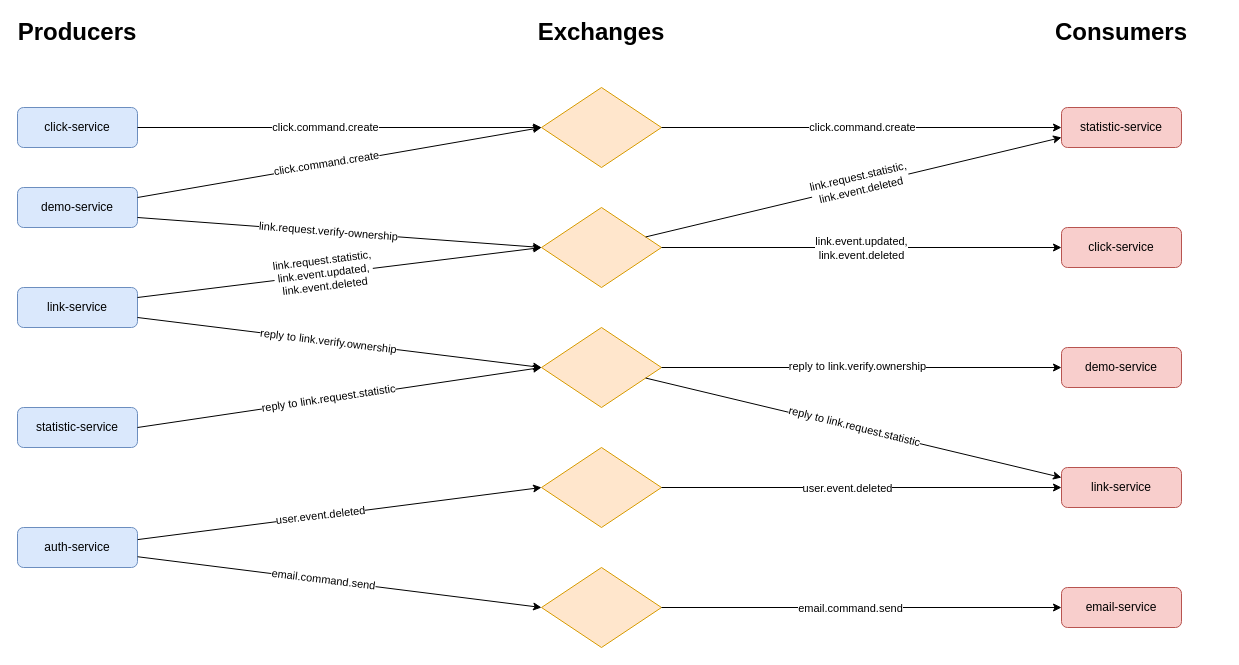
This 1239x665 diagram has some shape labels left out. Here are the shapes that lost their labels. From the top down, the box of each, then its label:
(540, 86, 662, 168): click.exchange (direct)
(540, 206, 662, 288): link.exchange (direct)
(540, 326, 662, 408): AMQP Default (direct)
(540, 446, 662, 528): user.exchange (direct)
(540, 566, 662, 648): email.exchange (direct)
